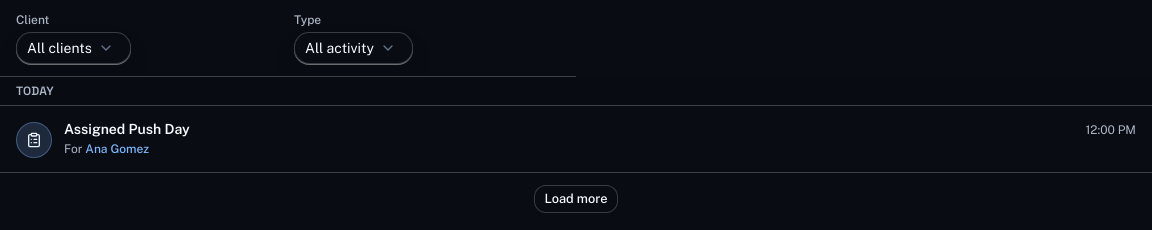
MyActivityFeed — paging › hides the button once the server says there is no more
Click the button "Load more": [576, 199] box [534,185,618,213]
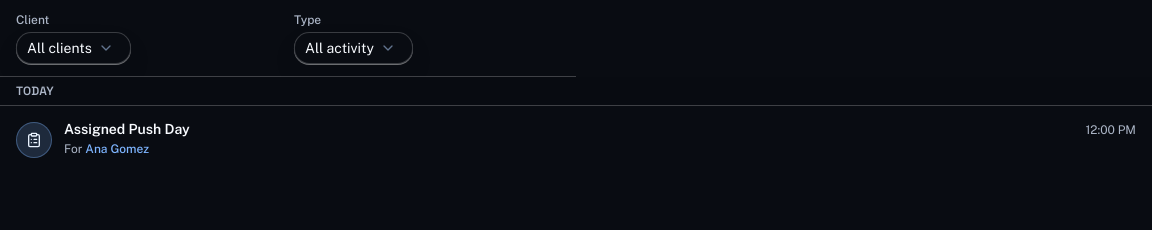
Now the button "Load more" is gone
